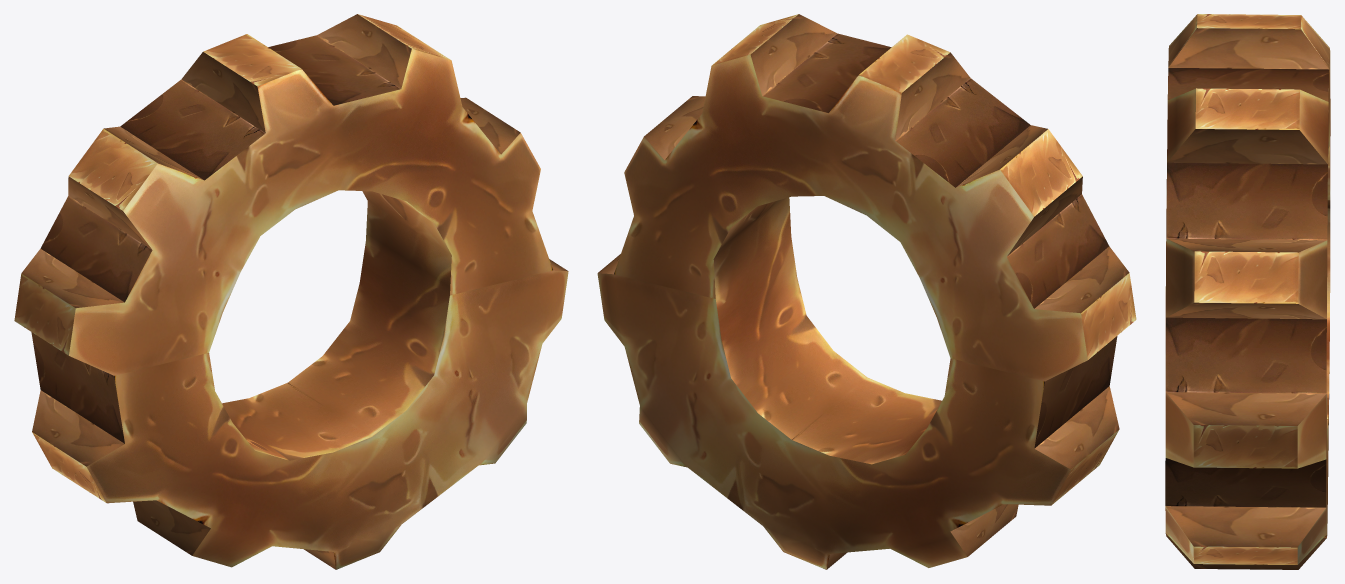
File: gnomekinggear.obj
3 renders of one model, left to right at view 1: azimuth 30°, elevation 25°; view 2: azimuth 150°, elevation 25°; view 3: azimuth 270°, elevation 25°, orthographic.
Parts seen in each view (by area): view 1: gnomekinggear; view 2: gnomekinggear; view 3: gnomekinggear.
Part boxes in pixels (bbox=[...]): gnomekinggear: bbox=[14, 14, 568, 569]; gnomekinggear: bbox=[597, 14, 1136, 569]; gnomekinggear: bbox=[1165, 14, 1330, 569].
Bounding box in the file's own units: 31.31 × 30.57 × 8.92.
1 material, 1 textured.
